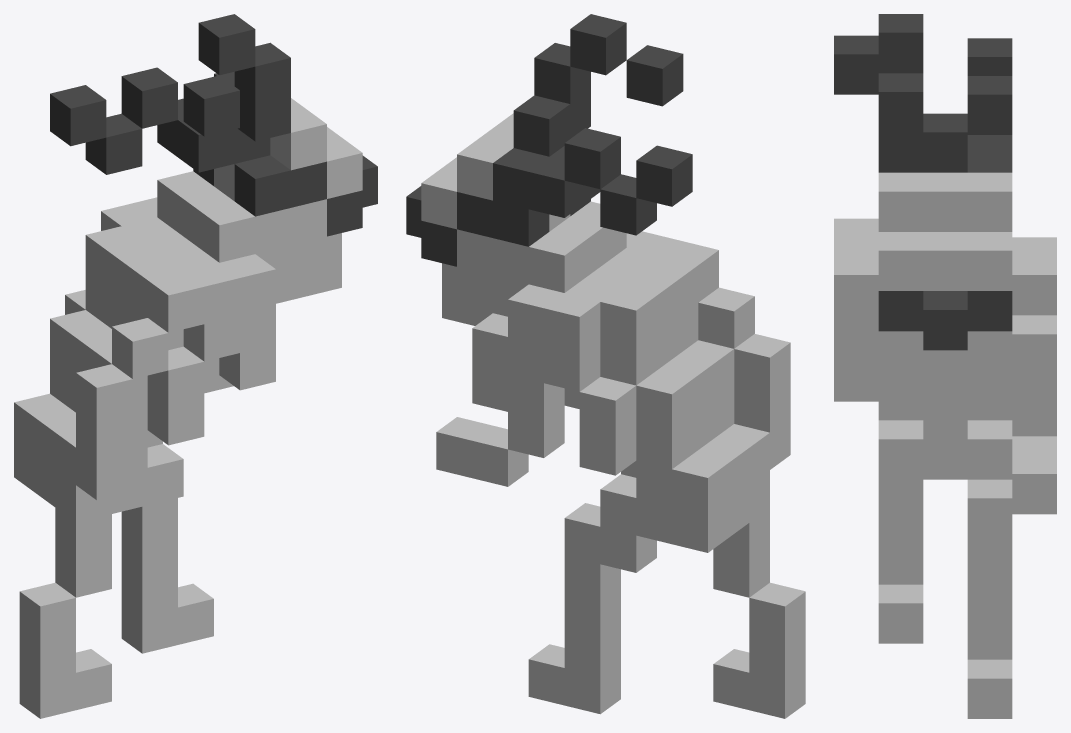
Rendered from idle_03.fbx.
The picture shows the model from 3 angles, left to right: view 1: azimuth 30°, elevation 25°; view 2: azimuth 150°, elevation 25°; view 3: azimuth 270°, elevation 25°; orthographic projection. The views are drawn at different scales.
Parts seen in each view (by area): view 1: Untitled.002, Untitled, Untitled.001; view 2: Untitled.002, Untitled, Untitled.001; view 3: Untitled.002, Untitled, Untitled.001.
Part boxes in pixels (<box>): Untitled.002: <box>14,98,362,718</box>; Untitled: <box>50,14,377,236</box>; Untitled.001: <box>255,199,341,282</box>; Untitled.002: <box>421,113,805,718</box>; Untitled: <box>406,14,692,266</box>; Untitled.001: <box>442,263,492,312</box>; Untitled.002: <box>834,172,1056,718</box>; Untitled: <box>834,14,1012,350</box>; Untitled.001: <box>878,331,1012,371</box>.
Bounding box in the file's own units: 100 × 170 × 50.
